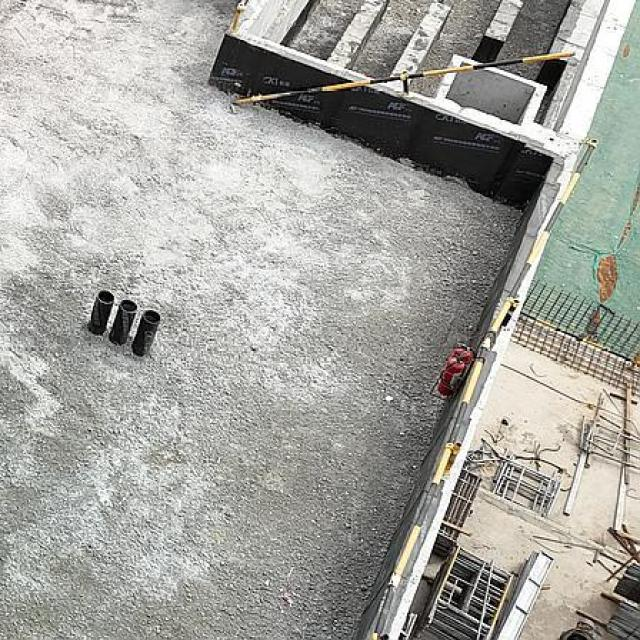edge_guardrail: (368, 135, 598, 640), (233, 50, 577, 126), (232, 0, 248, 30)
